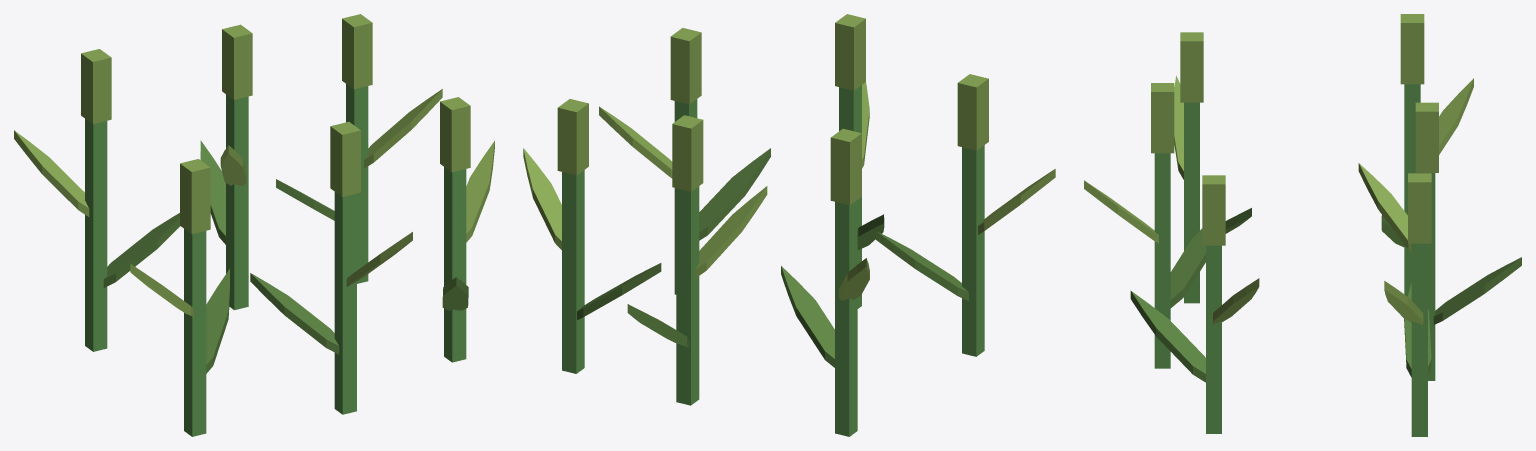
File: crop_wheat_growing.glb
3 views of the same model, side by side, from view 1: azimuth 30°, elevation 25°; view 2: azimuth 150°, elevation 25°; view 3: azimuth 270°, elevation 25° (orthographic). The views are drawn at different scales.
Visible parts, largest first — view 1: body__green2.001, body__leaf2.001, body__leaf.001; view 2: body__green2.001, body__leaf2.001, body__leaf.001; view 3: body__leaf2.001, body__green2.001, body__leaf.001.
Part boxes in pixels (<box>): body__green2.001: <box>85,84,466,436</box>; body__leaf2.001: <box>14,14,494,317</box>; body__leaf.001: <box>103,140,468,373</box>; body__green2.001: <box>562,85,984,436</box>; body__leaf2.001: <box>523,14,1055,300</box>; body__leaf.001: <box>577,148,968,367</box>; body__leaf2.001: <box>1084,14,1473,324</box>; body__green2.001: <box>1154,84,1435,436</box>; body__leaf.001: <box>1130,208,1521,382</box>.
Size of the model in its own units: 0.6472 by 0.4318 by 0.5957.
